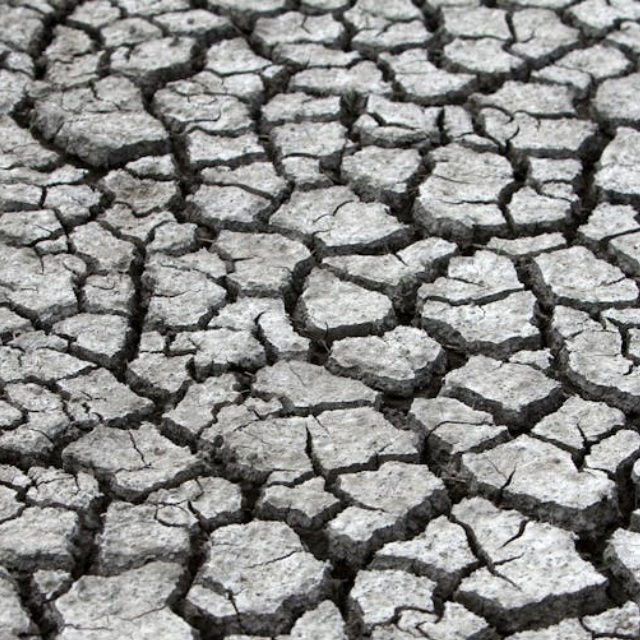深大裂缝: (155, 392, 473, 640)
网状裂隙: (196, 0, 640, 437), (0, 0, 189, 506)
